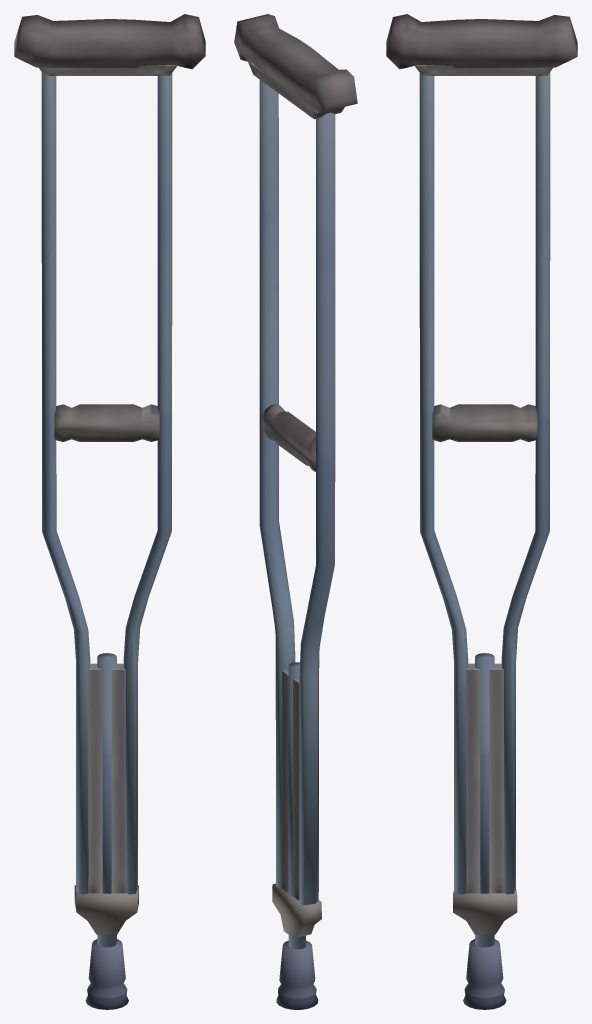
The model's file is Crutch.fbx.
3 renders of one model, left to right at view 1: azimuth 90°, elevation 25°; view 2: azimuth 210°, elevation 25°; view 3: azimuth 270°, elevation 25°, orthographic. The views are drawn at different scales.
Parts seen in each view (by area): view 1: Cube; view 2: Cube; view 3: Cube.
Part boxes in pixels (x1=…): Cube: x1=14, y1=14, x2=205, y2=1009; Cube: x1=234, y1=14, x2=357, y2=1009; Cube: x1=386, y1=14, x2=577, y2=1009.
Size of the model in its own units: 0.0232 by 0.5756 by 0.1018.
